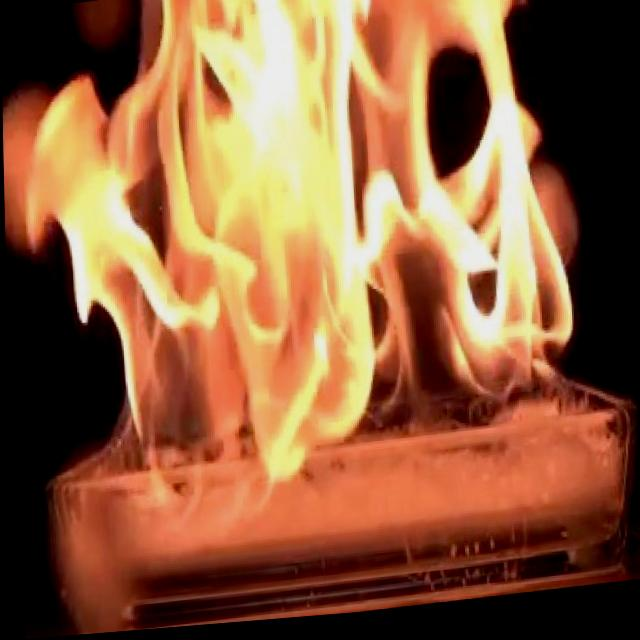helmet: (0, 0, 587, 531)
